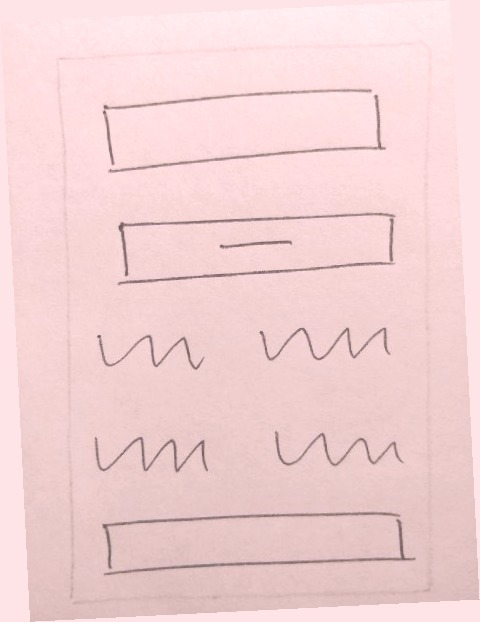button: (104, 195, 406, 296)
text: (265, 413, 411, 490), (81, 416, 219, 488), (247, 310, 396, 375), (92, 318, 212, 389)
text_input: (94, 75, 394, 183), (92, 499, 422, 588)
